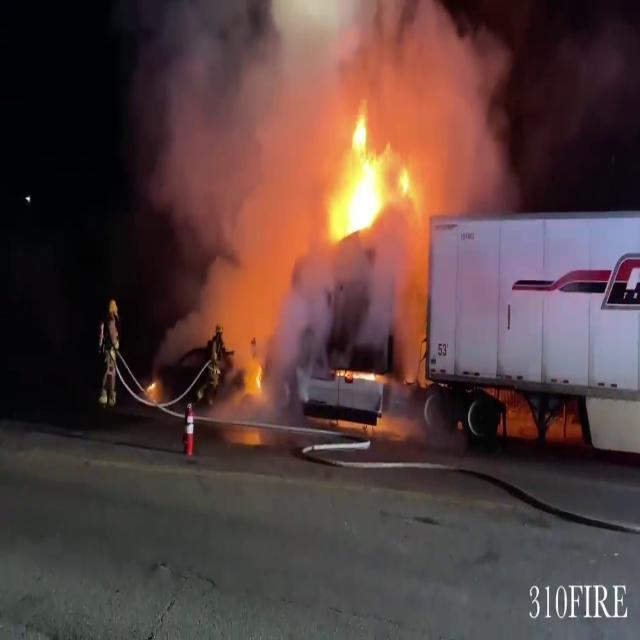Fire: (323, 111, 420, 250), (242, 358, 272, 411)
Smoke: (128, 1, 348, 314), (382, 1, 546, 231)
